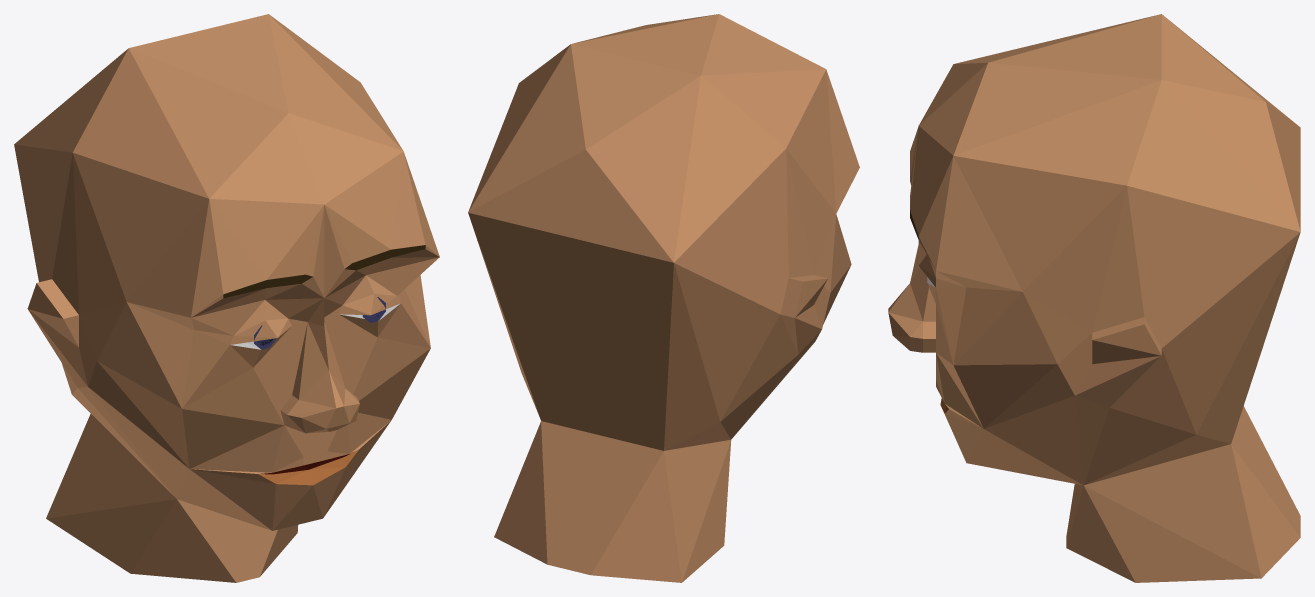
The model's file is model_120_idk_head.obj.
3 renders of one model, left to right at view 1: azimuth 30°, elevation 25°; view 2: azimuth 150°, elevation 25°; view 3: azimuth 270°, elevation 25°, orthographic. The views are drawn at different scales.
Visible parts, largest first — view 1: 120; view 2: 120; view 3: 120.
Part boxes in pixels (x1,y1,x2,y2): 120: [14, 14, 439, 582]; 120: [468, 14, 859, 582]; 120: [888, 14, 1300, 582].
Size of the model in its own units: 88 by 126 by 95.
